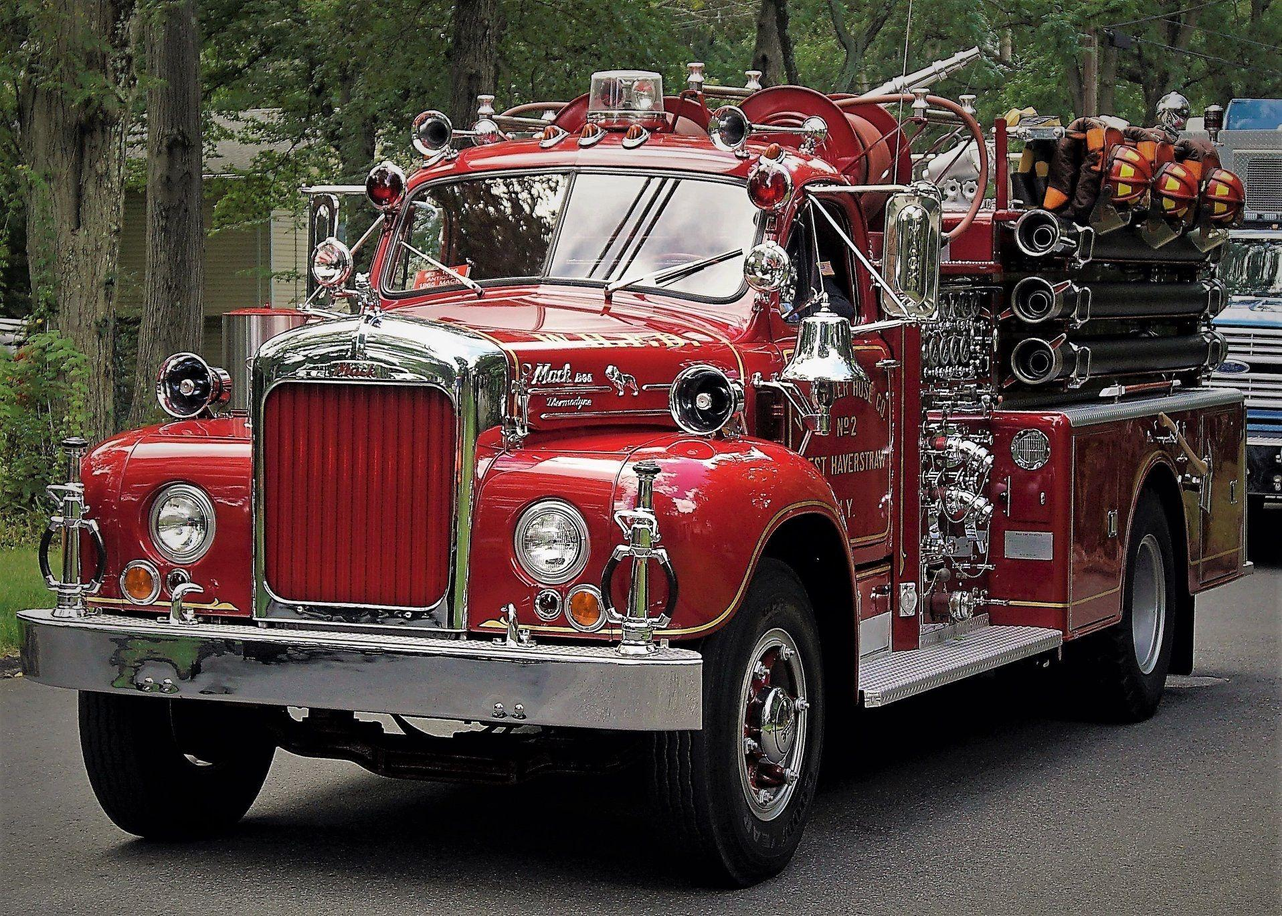Fire-engine: (15, 52, 1254, 888)
